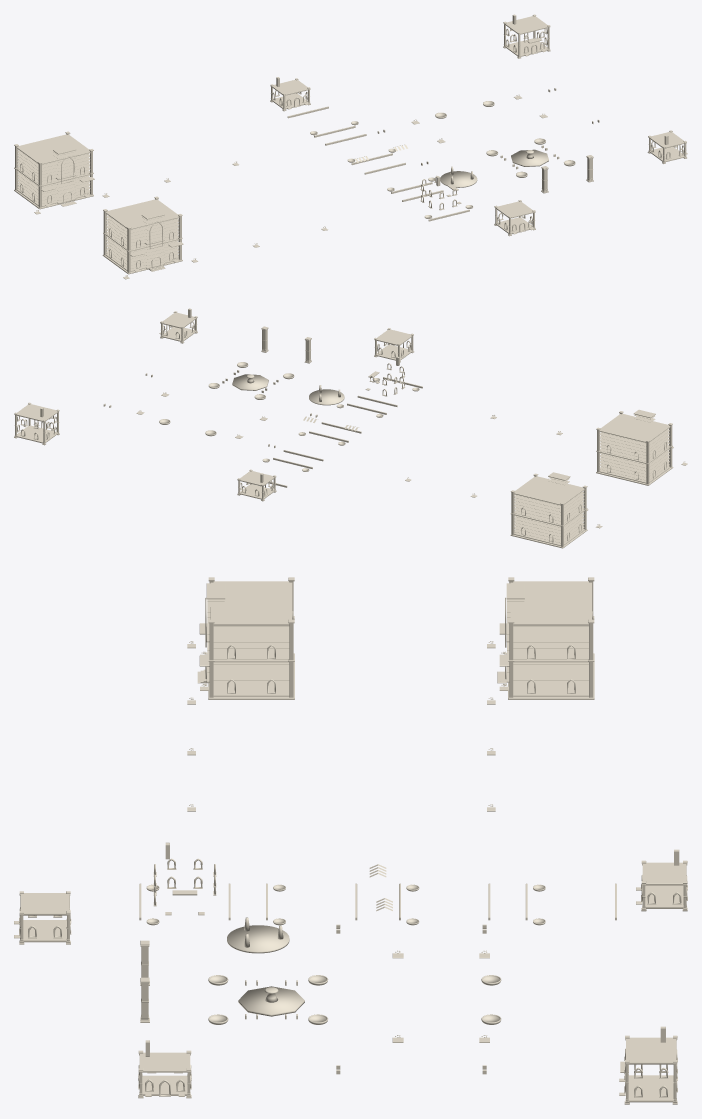
The model's file is Neris-20.glb.
3 views of the same model, one above another, from view 1: azimuth 30°, elevation 25°; view 2: azimuth 150°, elevation 25°; view 3: azimuth 270°, elevation 25° (orthographic). The views are drawn at different scales.
Visible parts, largest first — view 1: Pale Carved Stone (×2); view 2: Pale Carved Stone (×2); view 3: Pale Carved Stone (×2).
Boxes of the visible parts, box(x1,y1,x2,y2) form: Pale Carved Stone (×2): box(14, 14, 687, 279); Pale Carved Stone (×2): box(14, 308, 687, 548); Pale Carved Stone (×2): box(14, 577, 687, 1104).
Size of the model in its own units: 162 by 14.61 by 101.
